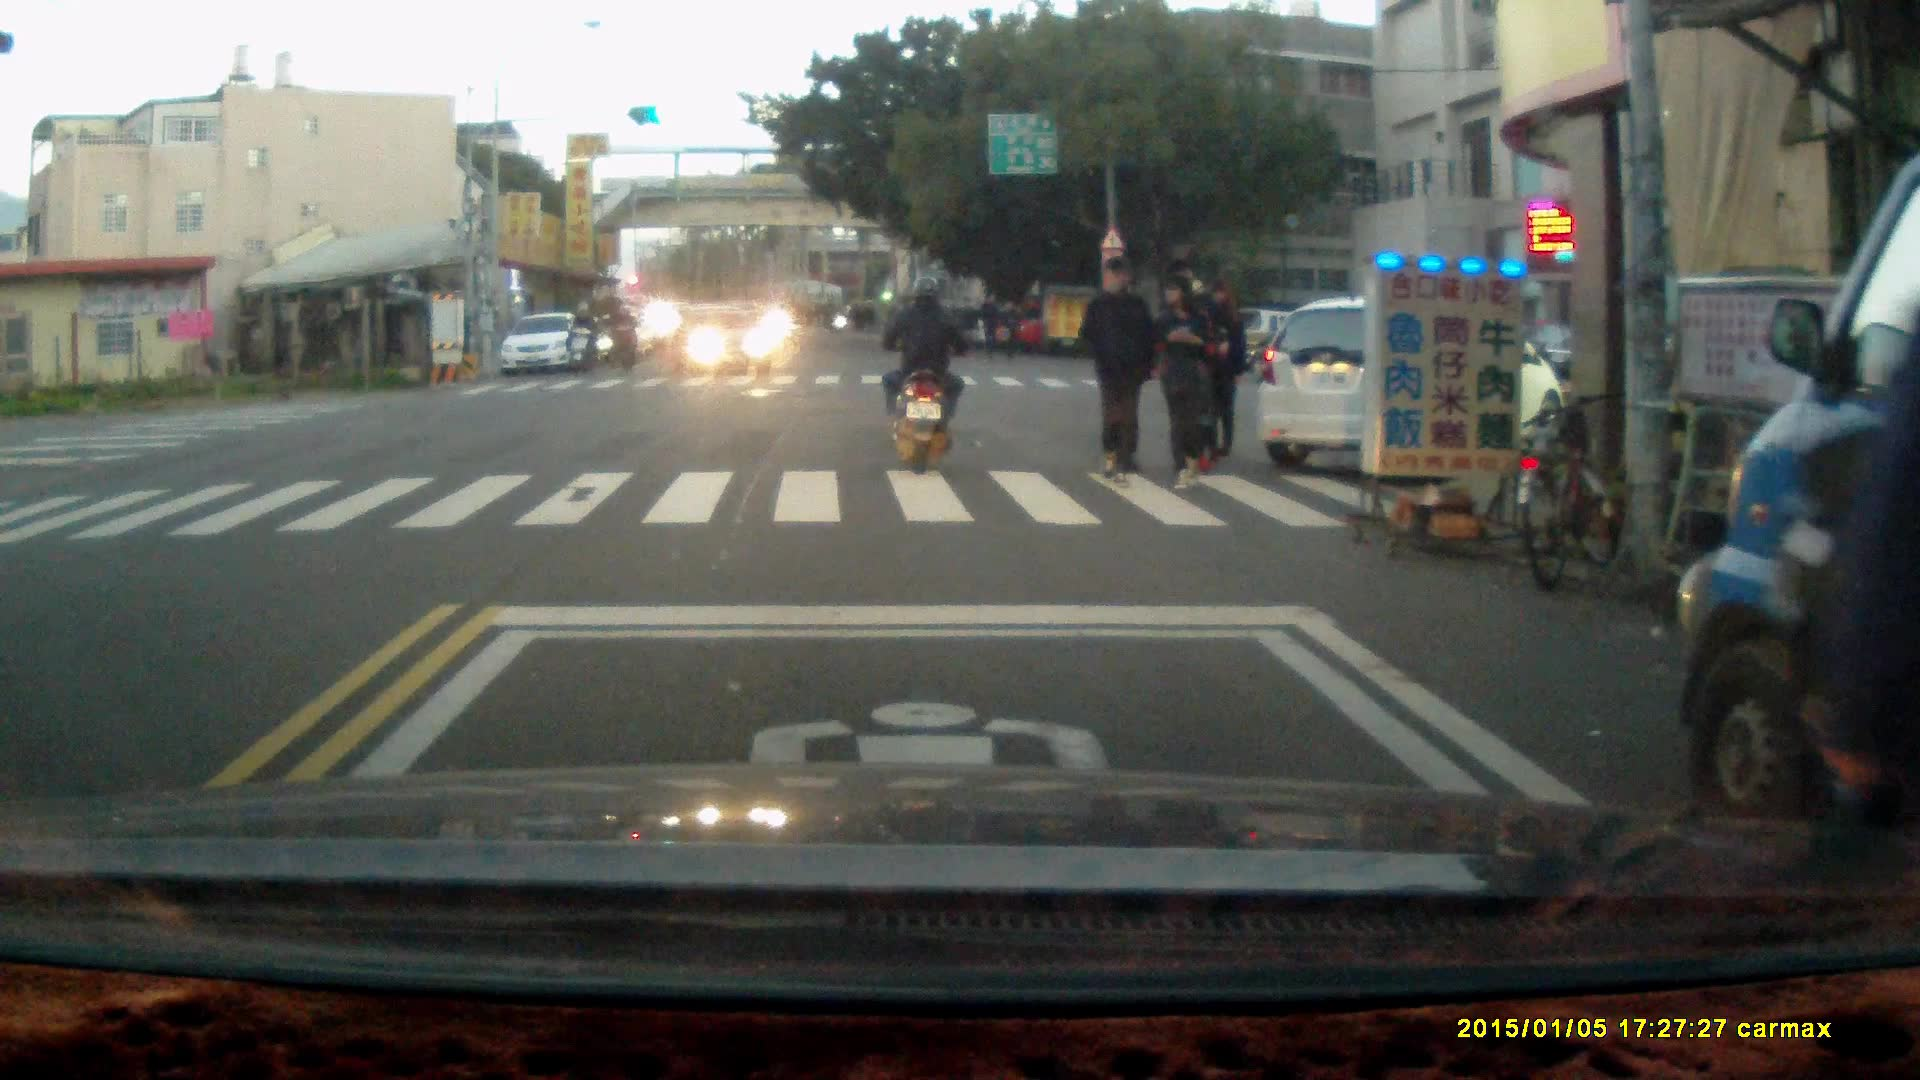pedestrian: (1823, 267, 1917, 868), (1076, 253, 1156, 488), (1152, 271, 1220, 492), (1202, 282, 1250, 463), (976, 288, 1001, 362), (997, 296, 1021, 365)
rider: (882, 269, 966, 475), (565, 297, 596, 373), (608, 298, 639, 370)
vehicle: (1670, 156, 1920, 857), (1259, 303, 1568, 471), (666, 304, 778, 379), (506, 309, 599, 374)
